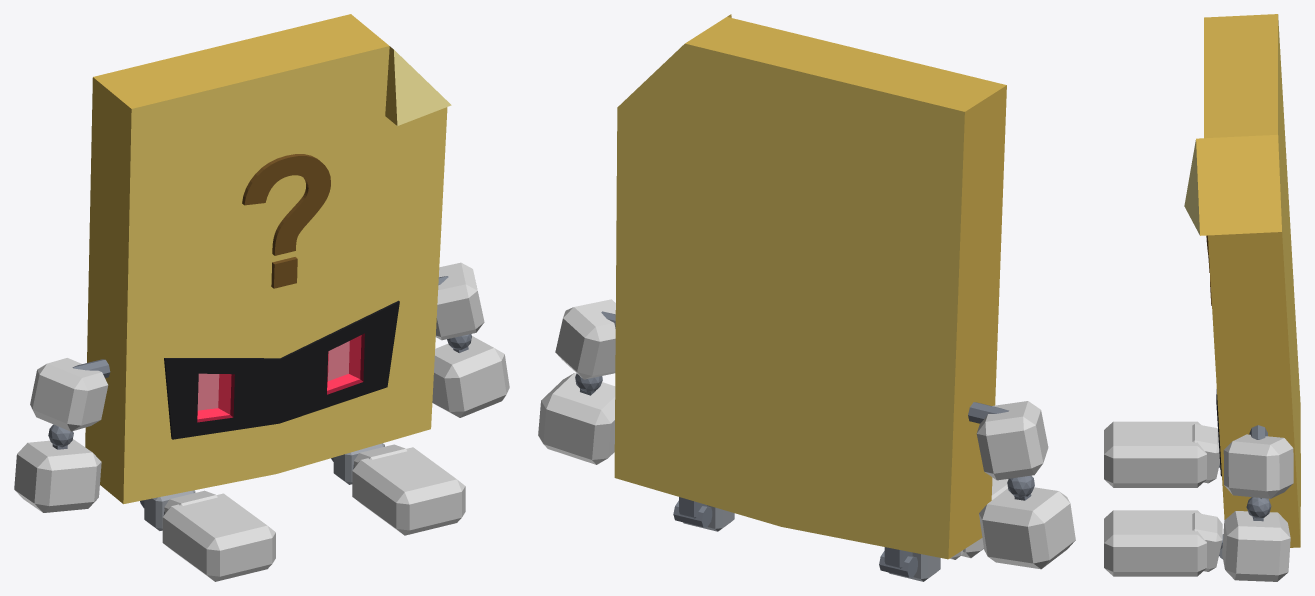
The model's file is problem_missing_details_v01_bambu_100mm_seated_0.000s.glb.
The picture shows the model from 3 angles, left to right: view 1: azimuth 30°, elevation 25°; view 2: azimuth 150°, elevation 25°; view 3: azimuth 270°, elevation 25°; orthographic projection. The views are drawn at different scales.
Parts seen in each view (by area): view 1: missing_details; view 2: missing_details; view 3: missing_details.
Boxes of the visible parts, x1,y1,x2,y2 form: missing_details: (14,14,509,581); missing_details: (538,14,1075,581); missing_details: (1104,14,1300,581).
Bounding box in the file's own units: 0.1103 × 0.1 × 0.0413.
1 material, 1 textured.
